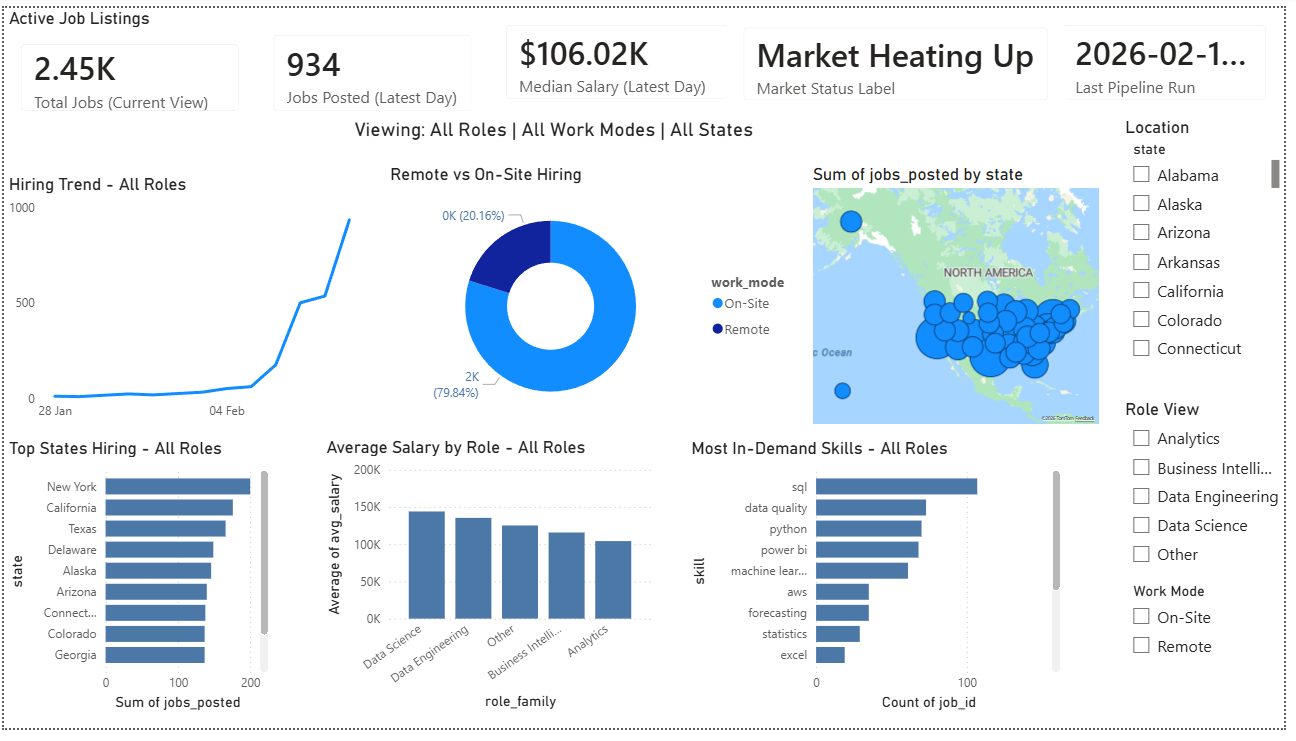

The dashboard page shown, as its layout file describes it:
{"tool":"powerbi","page":{"name":"Executive Dashboard","canvas":[1280,720],"ordinal":0},"visuals":[{"type":"cardVisual","title":"Active Job Listings","fields":{"Data":["job_daily_metrics_workmode.Total Jobs (Current View)"]},"box":[0,0,252.3,120.9],"z":0},{"type":"cardVisual","fields":{"Data":["job_daily_metrics_workmode.Jobs Posted (Latest Day)"]},"box":[252.3,10.5,232.6,110.5],"z":1000},{"type":"cardVisual","fields":{"Data":["job_daily_metrics_workmode.Median Salary (Latest Day)"]},"box":[484.9,0,257,108.1],"z":2000},{"type":"cardVisual","fields":{"Data":["Max(pipeline_runs.ended_at)"]},"box":[1041.4,0,238.6,109.9],"z":3000},{"type":"lineChart","fields":{"Category":["Date.Date"],"Y":["job_daily_metrics_workmode.Jobs Posted (Trend)"]},"box":[0,166.2,368.6,254.7],"z":4000},{"type":"azureMap","fields":{"Category":["job_daily_metrics.state"],"Size":["Sum(job_daily_metrics.jobs_posted)"]},"box":[803.5,155.8,296.5,265.1],"z":5000},{"type":"clusteredBarChart","fields":{"Category":["job_daily_metrics_workmode.state"],"Y":["Sum(job_daily_metrics_workmode.jobs_posted)"]},"box":[0,430.6,269.4,277.3],"z":6000},{"type":"clusteredBarChart","fields":{"Category":["v_job_skills.skill"],"Y":["Count(v_job_skills.job_id)"]},"box":[681.9,430.6,378.7,277.3],"z":7000},{"type":"slicer","title":"Role View","fields":{"Values":["DimRole.role_family"]},"box":[1116.3,391.9,164,177.9],"z":8000},{"type":"slicer","title":"Location","fields":{"Values":["DimState.state"]},"box":[1116.3,108.1,164,252.3],"z":9000},{"type":"clusteredColumnChart","fields":{"Category":["job_daily_metrics_workmode.role_family"],"Y":["Avg(job_daily_metrics_workmode.avg_salary)"]},"box":[317.4,429.1,334.9,277.9],"z":10000},{"type":"donutChart","title":"Remote vs On-Site Hiring","fields":{"Category":["job_daily_metrics_workmode.work_mode"],"Y":["Sum(job_daily_metrics_workmode.jobs_posted)"]},"box":[381.4,155.8,422.1,265.1],"z":11000},{"type":"card","fields":{"Values":["job_daily_metrics.Active Filters Banner"]},"box":[0,86,1100,69.8],"z":12000},{"type":"cardVisual","fields":{"Data":["job_daily_metrics_workmode.Market Status Label"]},"box":[722.4,2.7,339.1,107.2],"z":13000},{"type":"slicer","fields":{"Values":["DimWorkMode.Work Mode"]},"box":[1116,570,164,150],"z":14000}]}

Visuals, with their boxes in screenshot pixels (x1, y1, x2, y2), scaled from the page's 1280x720 canvas onto the 1296x741 screenshot:
"Active Job Listings" cardVisual: left=0, top=0, right=255, bottom=124
cardVisual - job_daily_metrics_workmode.Jobs Posted (Latest Day): left=255, top=11, right=491, bottom=125
cardVisual - job_daily_metrics_workmode.Median Salary (Latest Day): left=491, top=0, right=751, bottom=111
cardVisual - Max(pipeline_runs.ended_at): left=1054, top=0, right=1295, bottom=113
lineChart - Date.Date x job_daily_metrics_workmode.Jobs Posted (Trend): left=0, top=171, right=373, bottom=433
azureMap - job_daily_metrics.state x Sum(job_daily_metrics.jobs_posted): left=814, top=160, right=1114, bottom=433
clusteredBarChart - job_daily_metrics_workmode.state x Sum(job_daily_metrics_workmode.jobs_posted): left=0, top=443, right=273, bottom=729
clusteredBarChart - v_job_skills.skill x Count(v_job_skills.job_id): left=690, top=443, right=1074, bottom=729
"Role View" slicer: left=1130, top=403, right=1295, bottom=586
"Location" slicer: left=1130, top=111, right=1295, bottom=371
clusteredColumnChart - job_daily_metrics_workmode.role_family x Avg(job_daily_metrics_workmode.avg_salary): left=321, top=442, right=660, bottom=728
"Remote vs On-Site Hiring" donutChart: left=386, top=160, right=814, bottom=433
card - job_daily_metrics.Active Filters Banner: left=0, top=89, right=1114, bottom=160
cardVisual - job_daily_metrics_workmode.Market Status Label: left=731, top=3, right=1075, bottom=113
slicer - DimWorkMode.Work Mode: left=1130, top=587, right=1295, bottom=740
